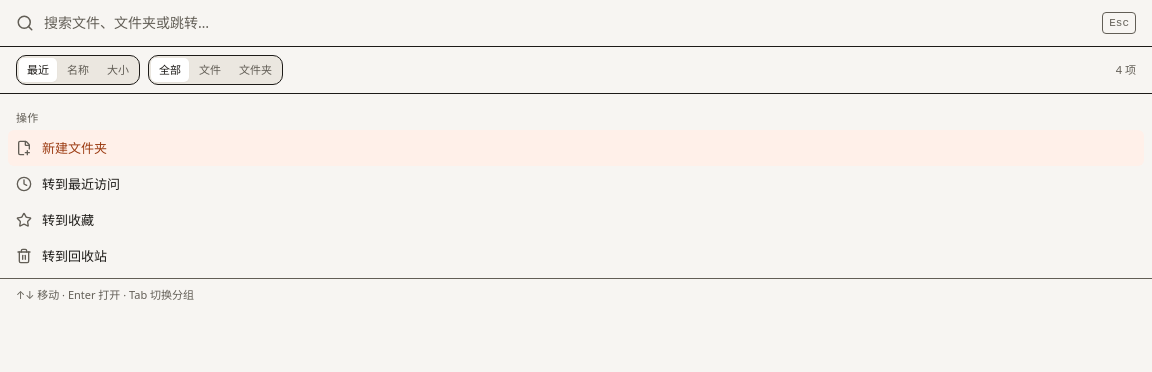
Test case: 分页：加载更多用 nextCursor 追加结果
Step 1. Type "聚会" into the field labelled "搜索" → (568, 23), box x1=44 y1=12 x2=1092 y2=34
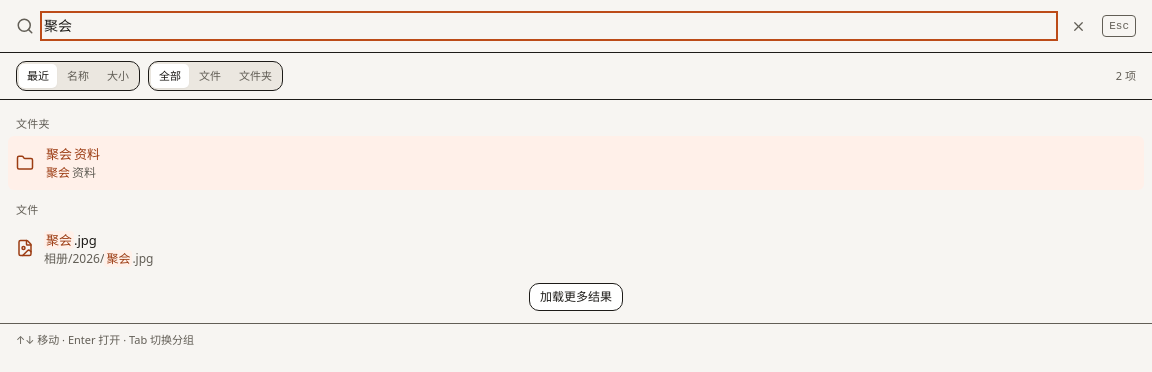
Check: the element showing "聚会.jpg" is shown, box x1=44 y1=231 x2=97 y2=249
Step 2. Click the button "加载更多结果" → (576, 297), box x1=529 y1=283 x2=623 y2=311
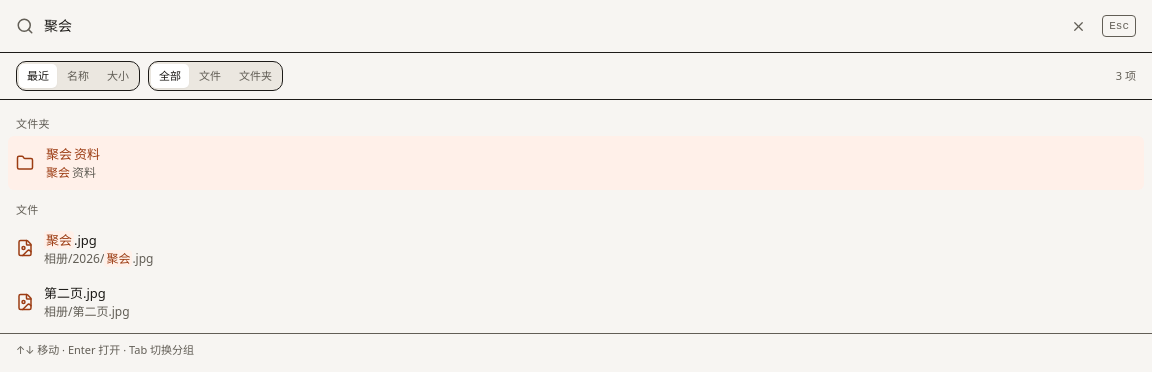
Check: the text "第二页.jpg" is shown, box x1=44 y1=284 x2=106 y2=302
